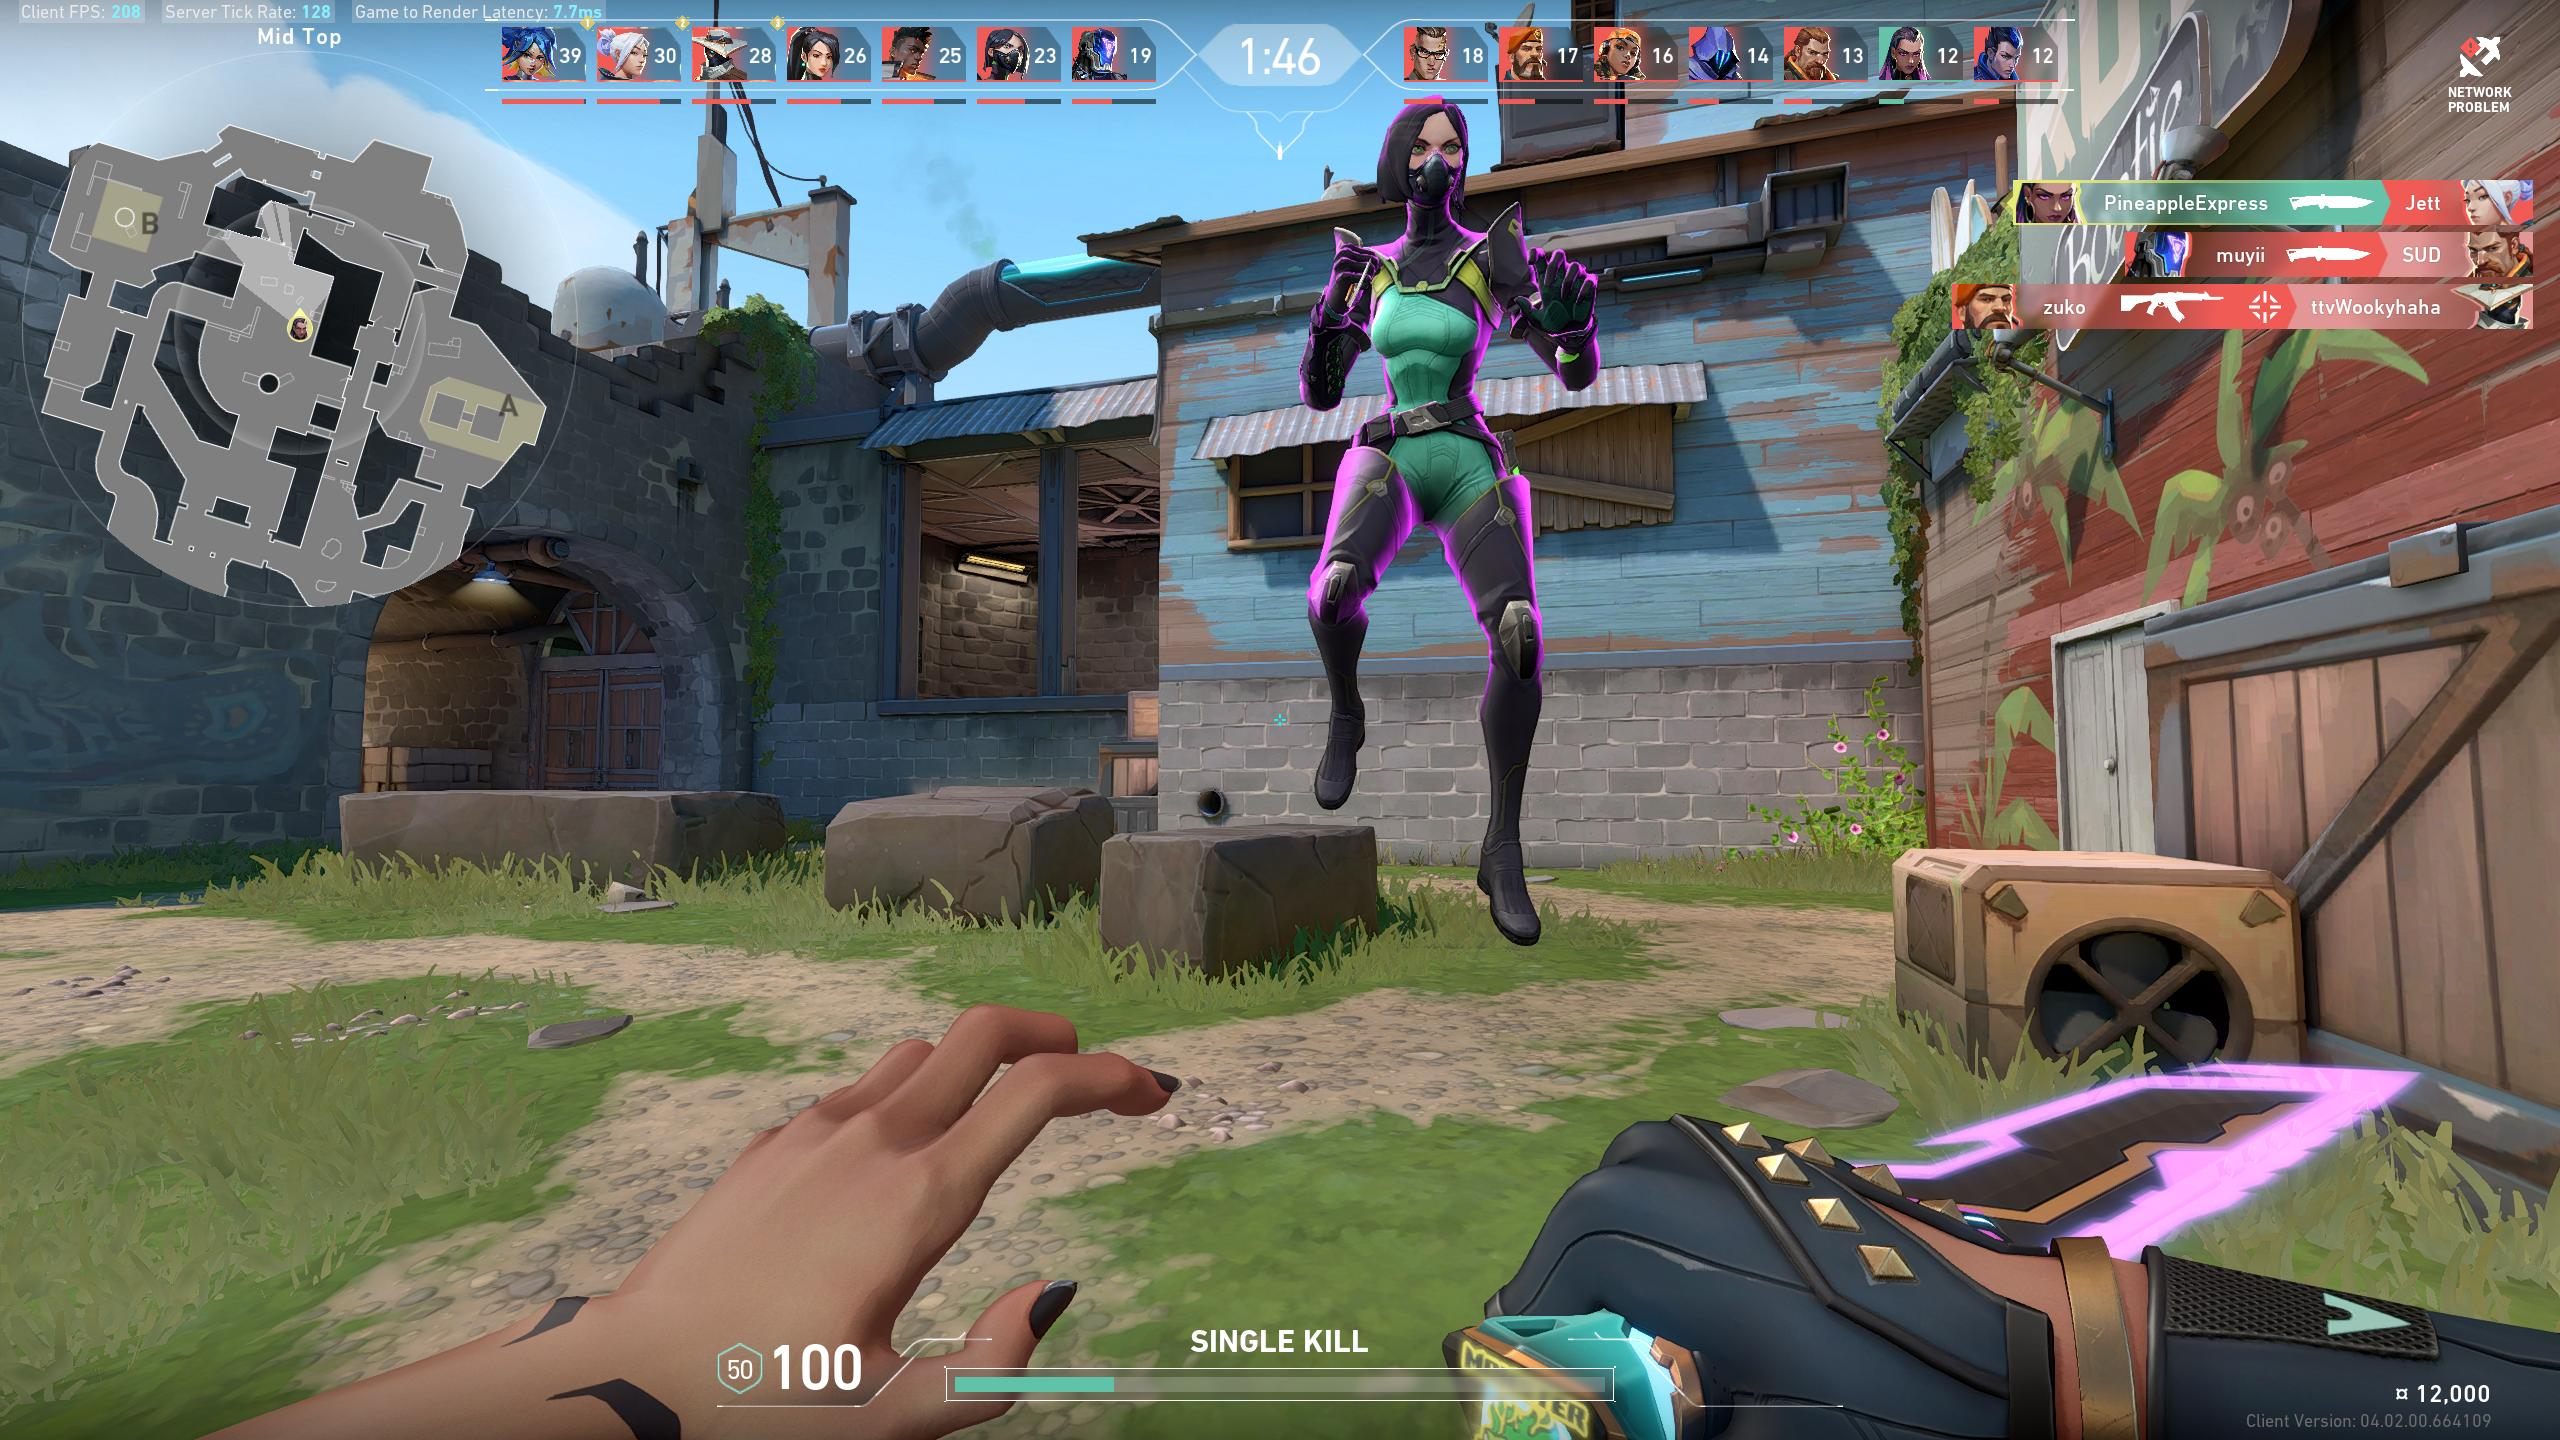enemyBody: (1387, 257, 1468, 461)
enemyHead: (1401, 120, 1459, 209)
